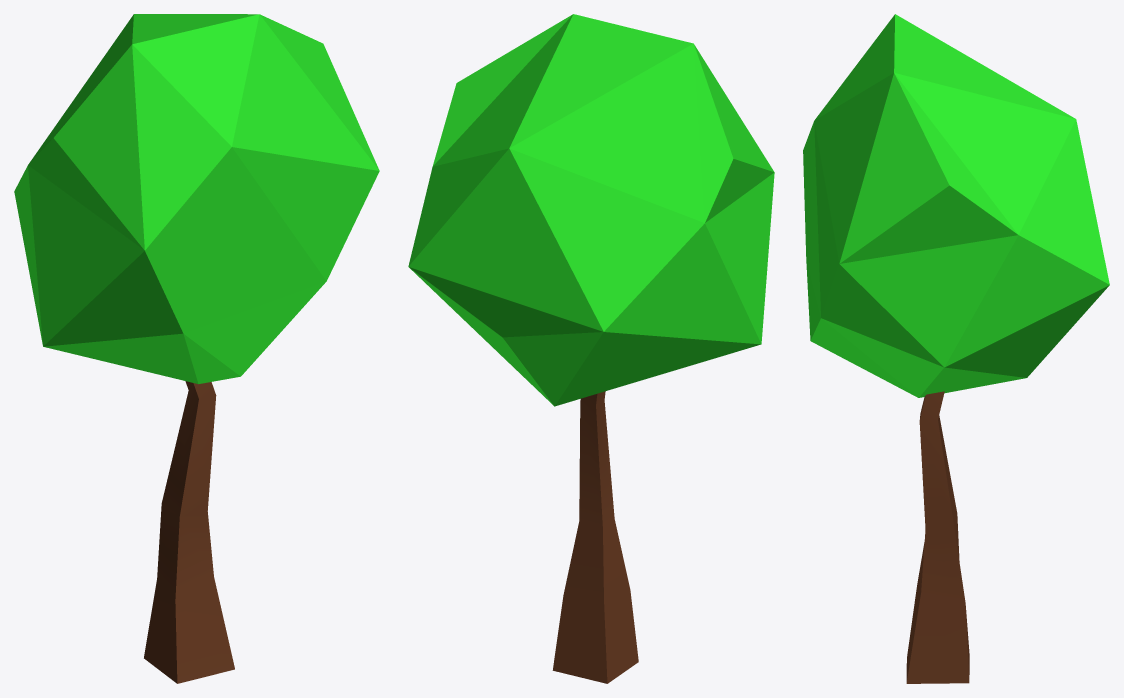
The model's file is tree.fbx.
3 views of the same model, side by side, from view 1: azimuth 30°, elevation 25°; view 2: azimuth 150°, elevation 25°; view 3: azimuth 270°, elevation 25° (orthographic). The views are drawn at different scales.
Parts seen in each view (by area): view 1: tree; view 2: tree; view 3: tree.
Boxes of the visible parts, box(x1,y1,x2,y2) form: tree: box(14, 14, 379, 683); tree: box(408, 14, 774, 683); tree: box(803, 14, 1109, 683).
Bounding box in the file's own units: 1.44 × 2.88 × 1.29.
